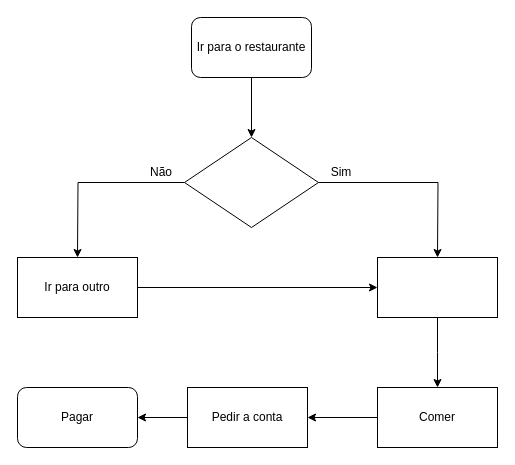
This 515x465 diagram has some shape labels left out. The shapes that lost their labels are listed below. From the top down, each one's centre as x and y in pixels, then its label:
(x=251, y=182): O restaurante tem lugares livres?
(x=437, y=287): Fazer o pedido
